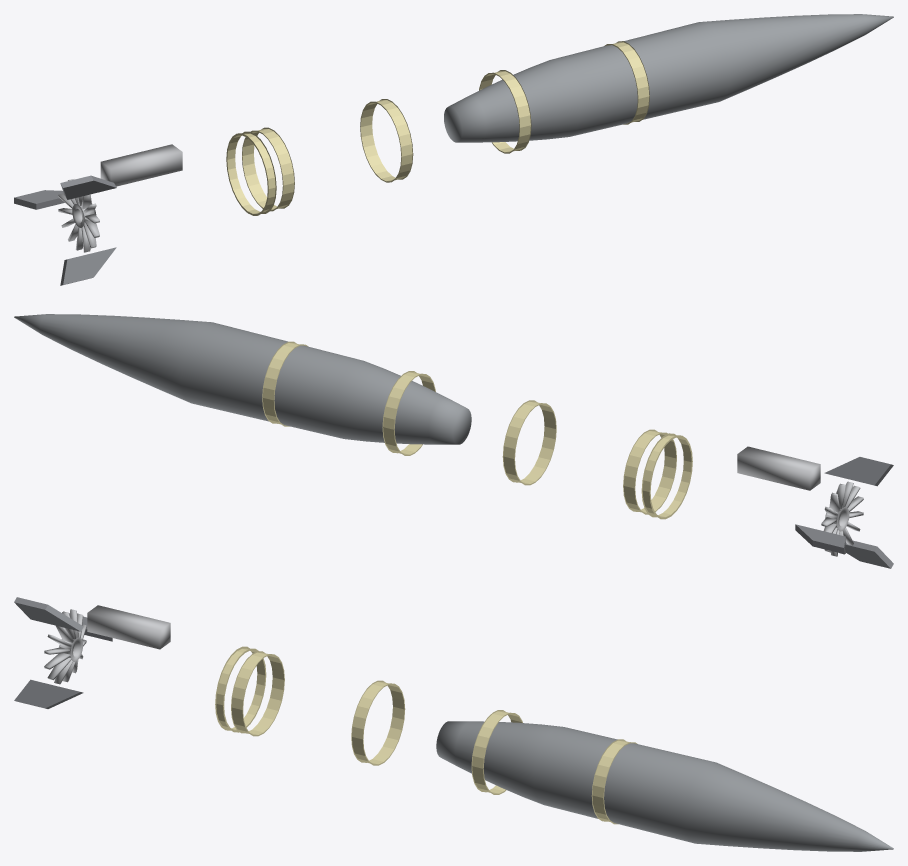
The model's file is RU_TORP_UGST_M_LOD1.fbx.
The picture shows the model from 3 angles, top to bottom: view 1: azimuth 30°, elevation 25°; view 2: azimuth 150°, elevation 25°; view 3: azimuth 330°, elevation 25°; orthographic projection.
Visible parts, largest first — view 1: WPN_RU_TORP_UGST_M_LOD1_Body, WPN_RU_TORP_UGST_M_LOD1_Marking, WPN_RU_TORP_UGST_M_LOD1_Fins, WPN_RU_TORP_UGST_M_LOD1_Detail, WPN_RU_TORP_UGST_M_LOD1_Propulsor; view 2: WPN_RU_TORP_UGST_M_LOD1_Body, WPN_RU_TORP_UGST_M_LOD1_Marking, WPN_RU_TORP_UGST_M_LOD1_Fins, WPN_RU_TORP_UGST_M_LOD1_Detail, WPN_RU_TORP_UGST_M_LOD1_Propulsor; view 3: WPN_RU_TORP_UGST_M_LOD1_Body, WPN_RU_TORP_UGST_M_LOD1_Marking, WPN_RU_TORP_UGST_M_LOD1_Detail, WPN_RU_TORP_UGST_M_LOD1_Fins, WPN_RU_TORP_UGST_M_LOD1_Propulsor.
Part boxes in pixels (x1,y1,x2,y2): WPN_RU_TORP_UGST_M_LOD1_Body: (444,14,893,142); WPN_RU_TORP_UGST_M_LOD1_Marking: (226,41,649,215); WPN_RU_TORP_UGST_M_LOD1_Fins: (14,175,116,285); WPN_RU_TORP_UGST_M_LOD1_Detail: (100,144,182,186); WPN_RU_TORP_UGST_M_LOD1_Propulsor: (58,179,99,252); WPN_RU_TORP_UGST_M_LOD1_Body: (14,314,471,444); WPN_RU_TORP_UGST_M_LOD1_Marking: (262,341,692,519); WPN_RU_TORP_UGST_M_LOD1_Fins: (795,457,893,568); WPN_RU_TORP_UGST_M_LOD1_Detail: (737,446,820,490); WPN_RU_TORP_UGST_M_LOD1_Propulsor: (821,481,863,556); WPN_RU_TORP_UGST_M_LOD1_Body: (436,721,893,851); WPN_RU_TORP_UGST_M_LOD1_Marking: (215,646,637,824); WPN_RU_TORP_UGST_M_LOD1_Detail: (87,605,170,649); WPN_RU_TORP_UGST_M_LOD1_Fins: (14,597,112,708); WPN_RU_TORP_UGST_M_LOD1_Propulsor: (44,609,86,684).
Size of the model in its own units: 6.32 by 0.6853 by 0.7328.
